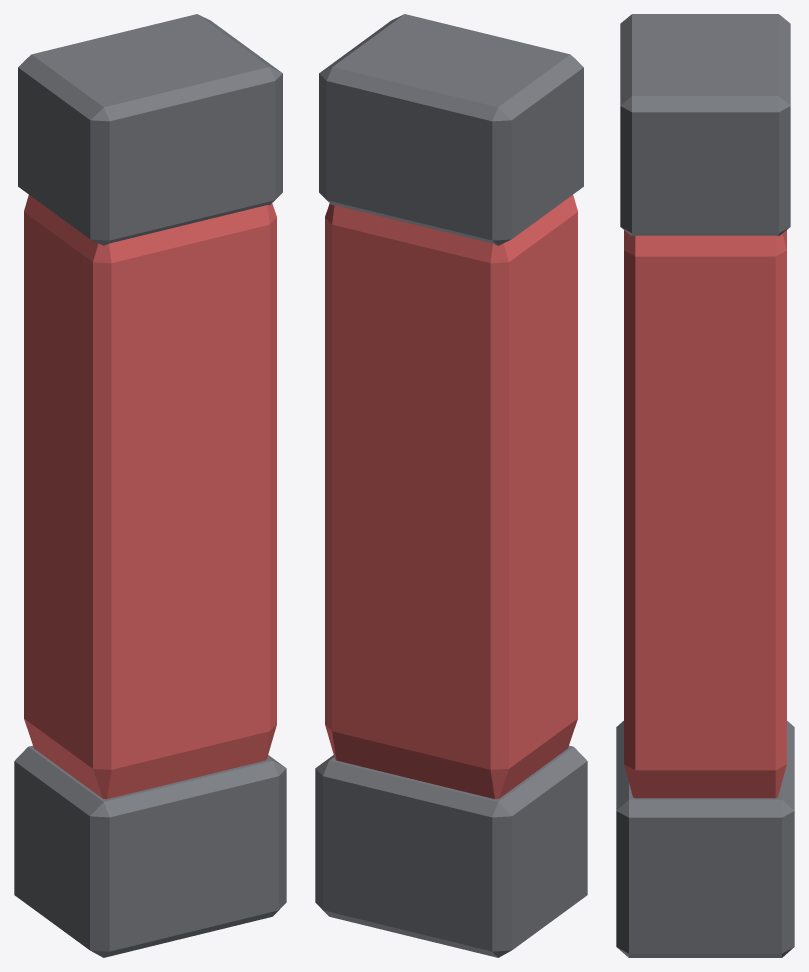
Rendered from b12_fire_escape_drop_ladder.glb.
3 renders of one model, left to right at view 1: azimuth 30°, elevation 25°; view 2: azimuth 150°, elevation 25°; view 3: azimuth 270°, elevation 25°, orthographic.
Parts seen in each view (by area): view 1: b12_fire_escape_drop_ladder; view 2: b12_fire_escape_drop_ladder; view 3: b12_fire_escape_drop_ladder.
Part boxes in pixels (x1,y1,x2,y2): b12_fire_escape_drop_ladder: (14,14,286,957); b12_fire_escape_drop_ladder: (315,14,587,957); b12_fire_escape_drop_ladder: (616,14,794,957).
Size of the model in its own units: 0.905 by 3.73 by 0.7.
